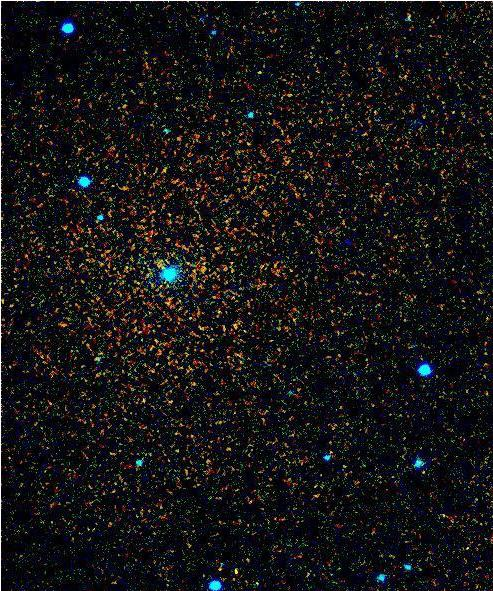star: (147, 247, 177, 277)
